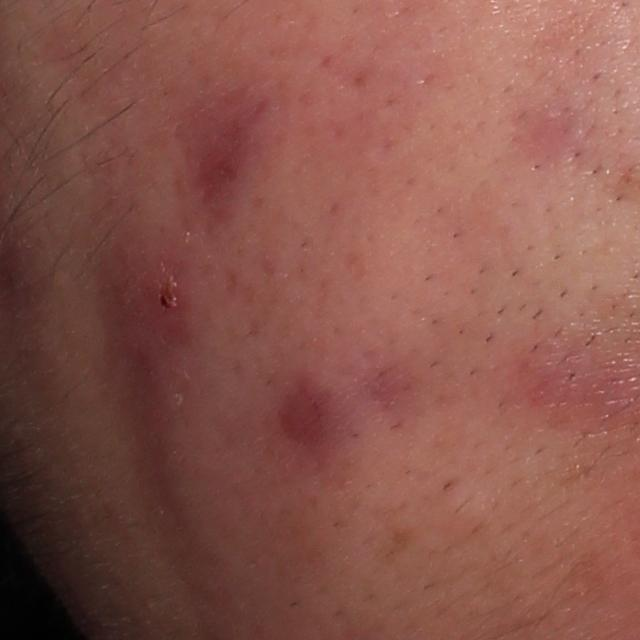papule: (112, 256, 201, 349), (269, 380, 333, 450)
